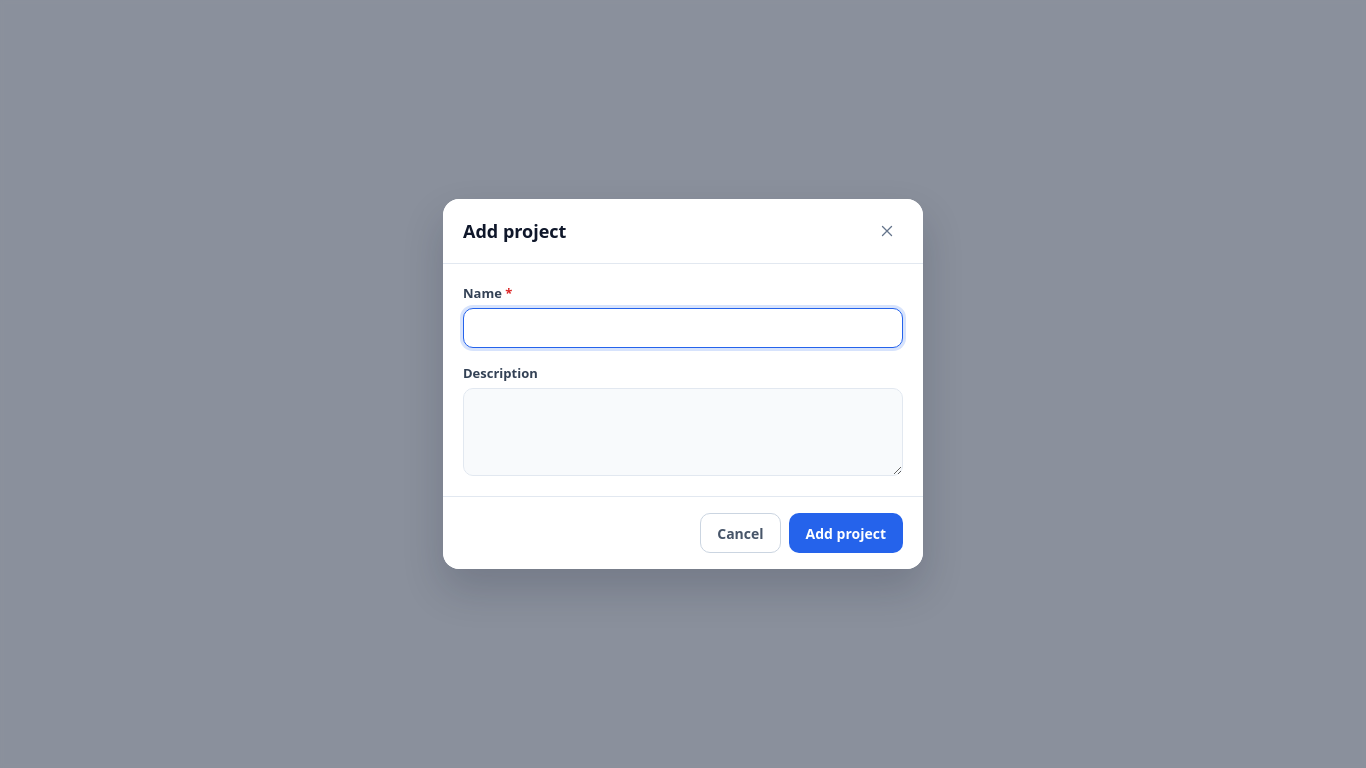
ProjectFormDialogComponent › keeps the dialog open and shows the server error for a duplicate name
Type "Finance" into the field labelled "Name *" at (683, 328), box [463, 308, 903, 348]
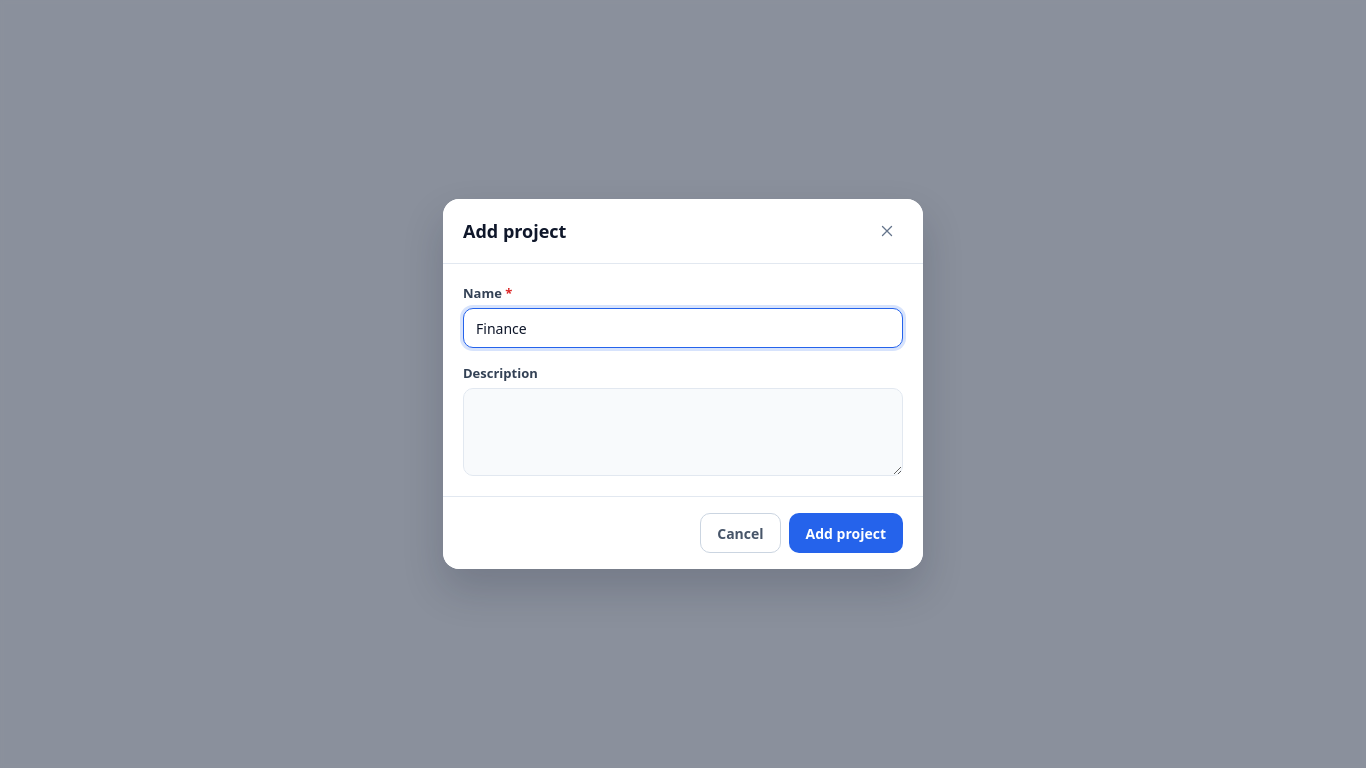
Click the submit button at (846, 533), box [788, 513, 903, 553]
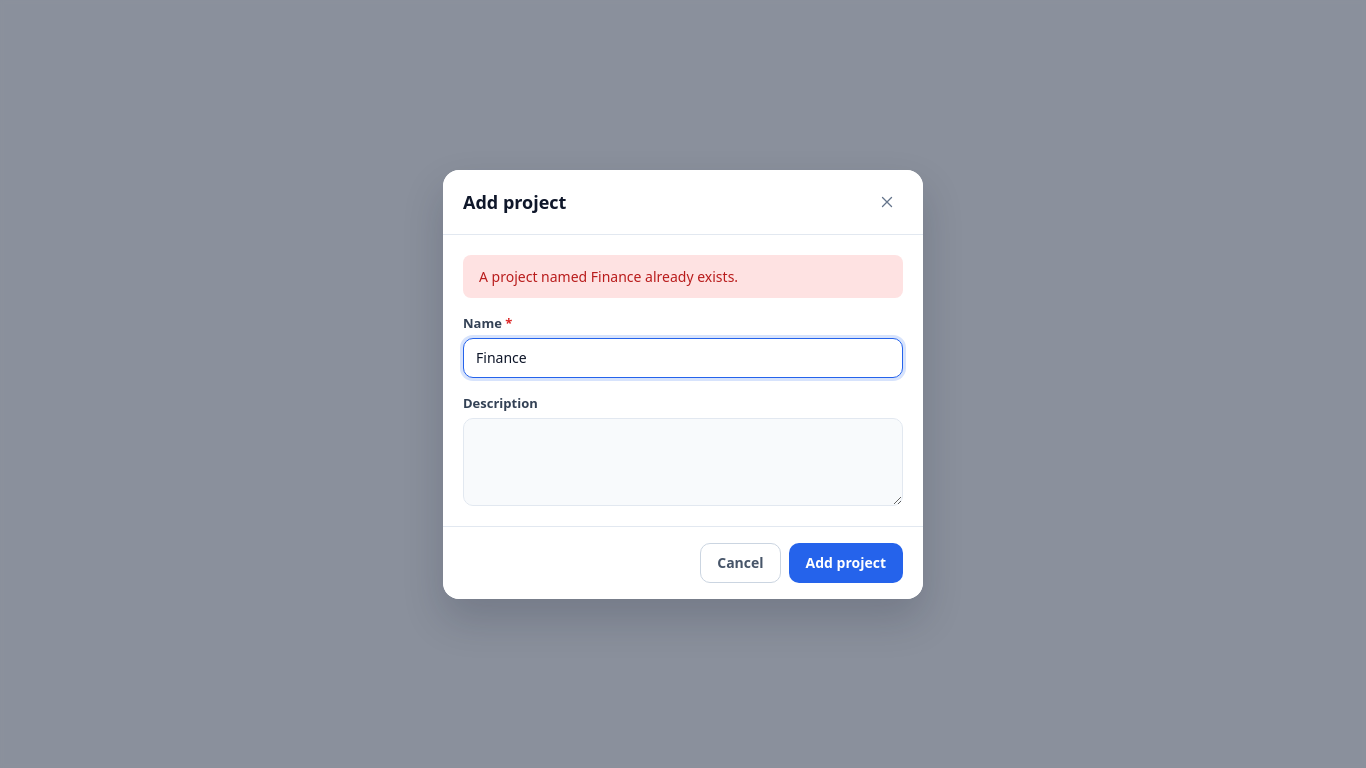
Now the message with class "tf-alert" reads "A project named Finance already exists.", box [479, 266, 738, 286]
